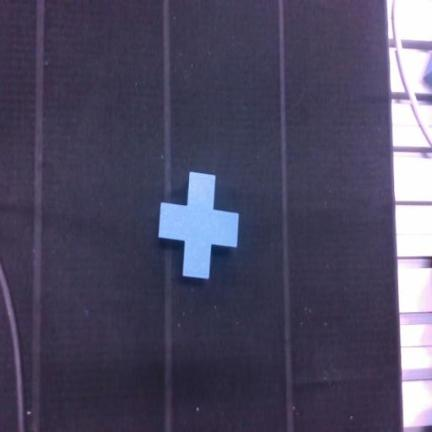cross: (159, 173, 238, 278), (424, 56, 431, 85)
